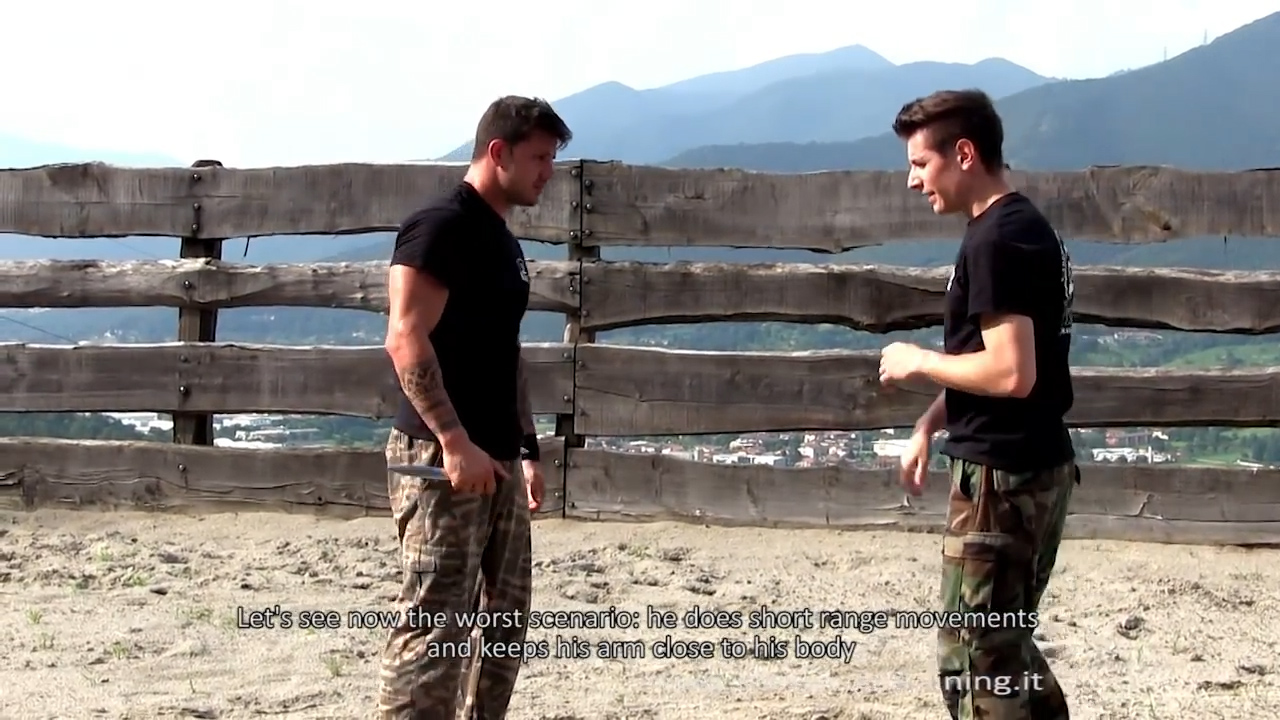knife: (376, 443, 497, 501)
